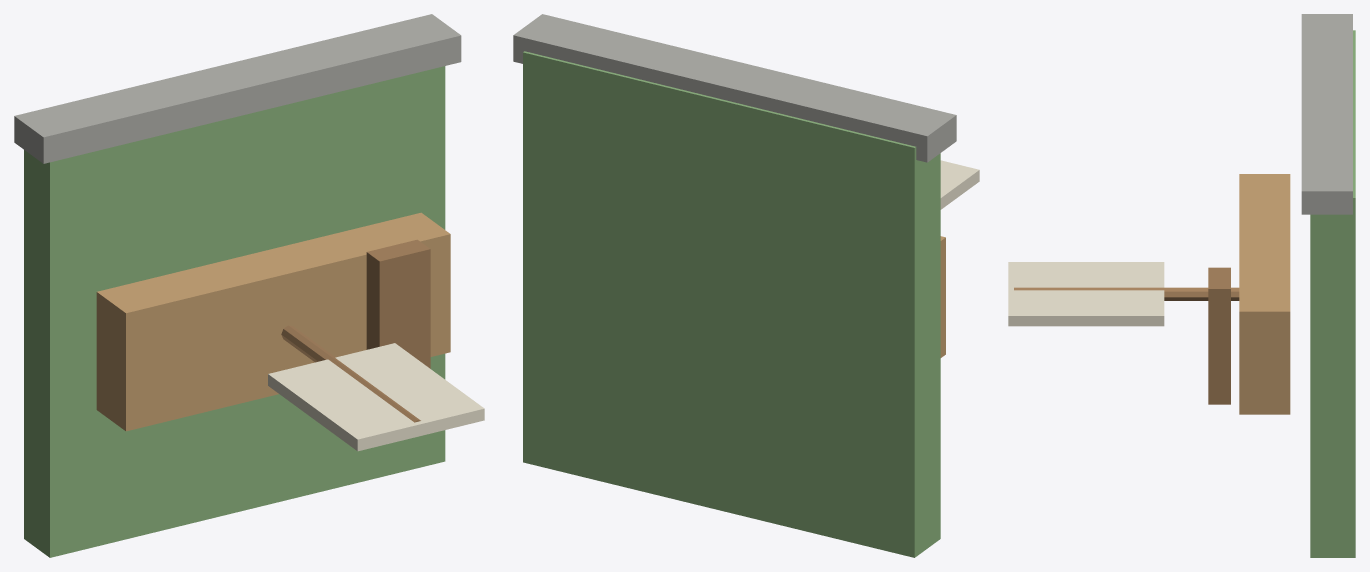
Rendered from 22_ThuyenNho.glb.
The picture shows the model from 3 angles, left to right: view 1: azimuth 30°, elevation 25°; view 2: azimuth 150°, elevation 25°; view 3: azimuth 270°, elevation 25°; orthographic projection. The views are drawn at different scales.
Parts seen in each view (by area): view 1: base, boat, edge, sail, bench, mast; view 2: base, edge, sail, boat; view 3: base, boat, edge, sail, bench, mast.
Boxes of the visible parts, <box> form: base: <box>24,66,445,557</box>; boat: <box>96,212,450,431</box>; edge: <box>14,14,461,163</box>; sail: <box>268,343,484,451</box>; bench: <box>366,239,430,368</box>; mast: <box>281,325,420,422</box>; base: <box>523,51,940,557</box>; edge: <box>513,14,956,162</box>; sail: <box>940,160,979,209</box>; boat: <box>940,236,945,357</box>; base: <box>1310,30,1355,557</box>; boat: <box>1239,174,1290,414</box>; edge: <box>1301,14,1352,214</box>; sail: <box>1008,262,1164,326</box>; bench: <box>1208,267,1230,404</box>; mast: <box>1014,287,1239,300</box>.
Bounding box in the file's own units: 1.48 × 1.44 × 1.23.
